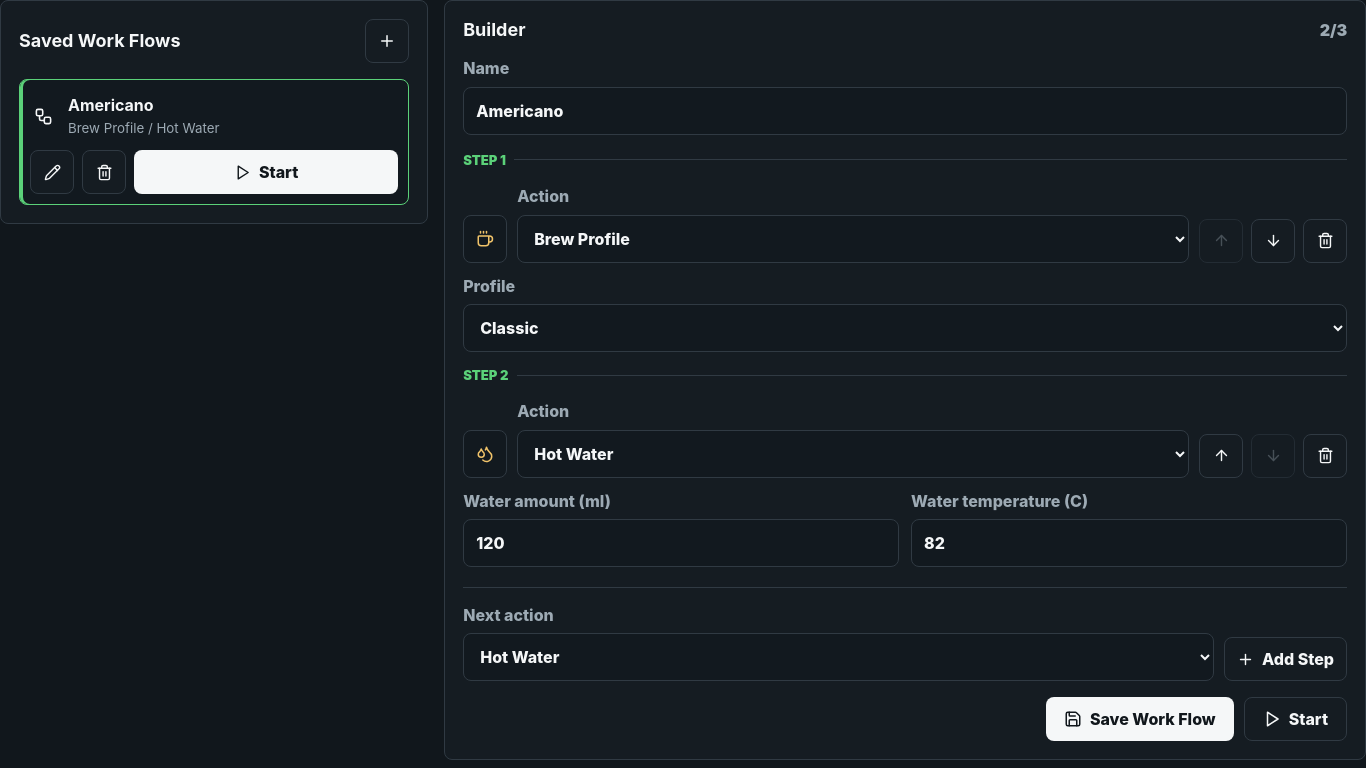
it: Work Flows page › adds steam as a third action and prevents a fourth action
The image size is (1366, 768).
Select "Steam Milk" in the dropdown labelled "Next action" at (839, 658), box [463,634,1214,682]
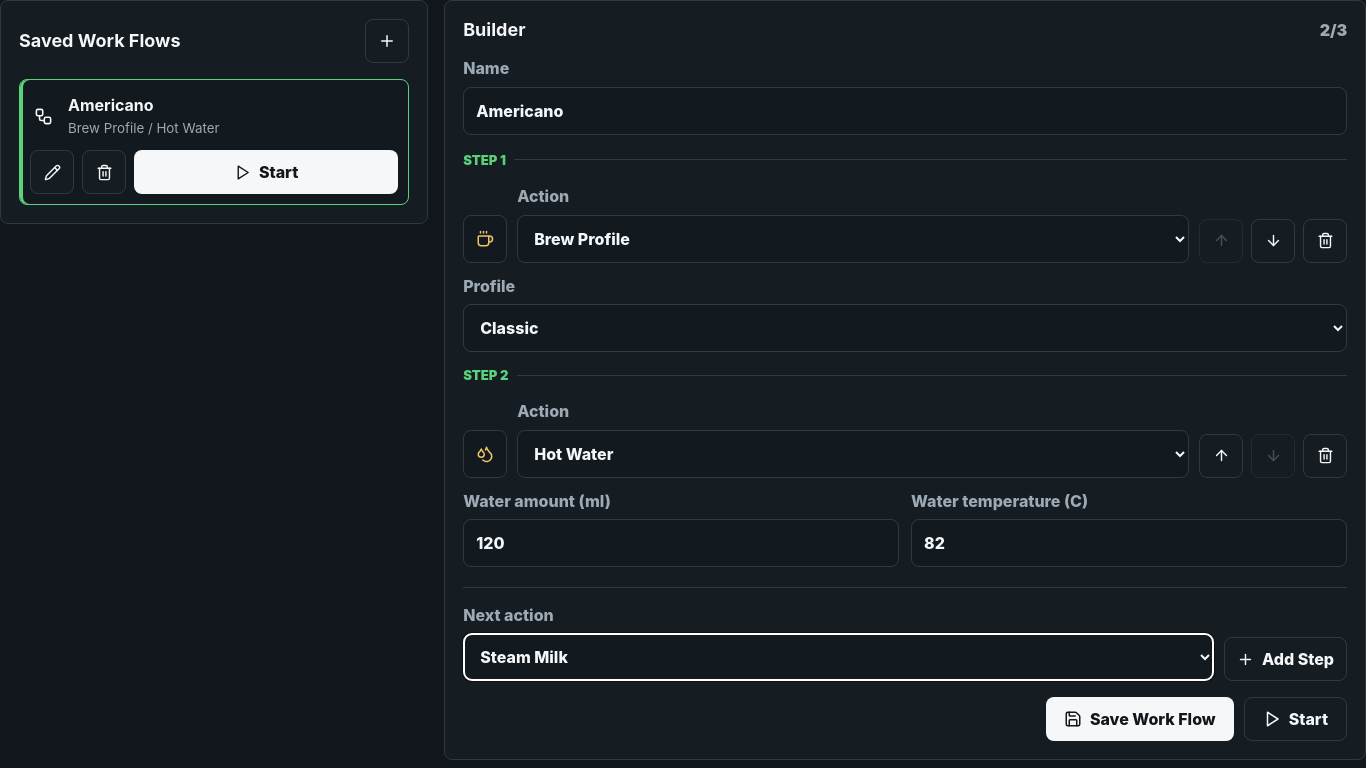
Click the button "Add Step" at (1286, 660), box [1224,638,1347,682]
(page scrolled)
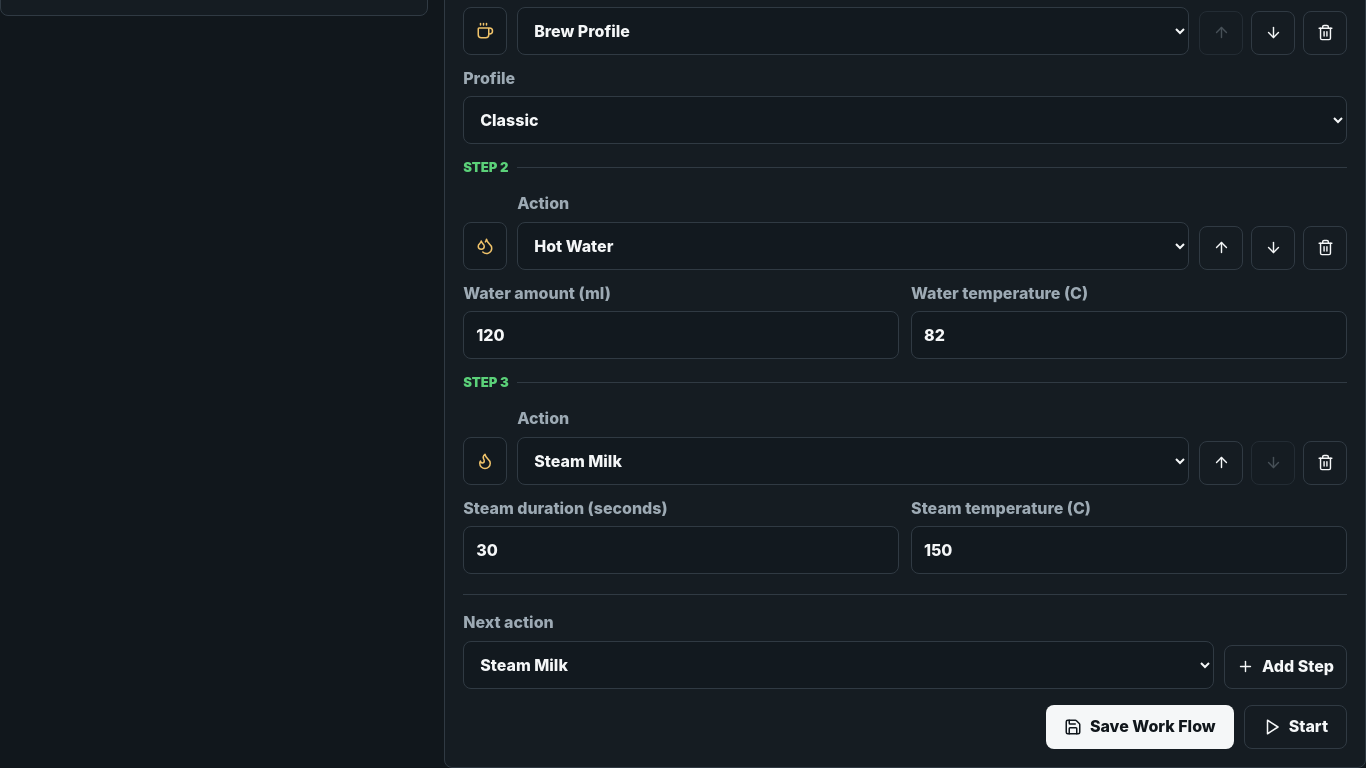
expect the number field labelled "Steam duration (seconds)" holds "30": met, box [463,526,899,574]
expect the number field labelled "Steam temperature (C)" holds "150": met, box [911,526,1347,574]
expect the button "Add Step" is disabled: met, box [1224,645,1347,689]
